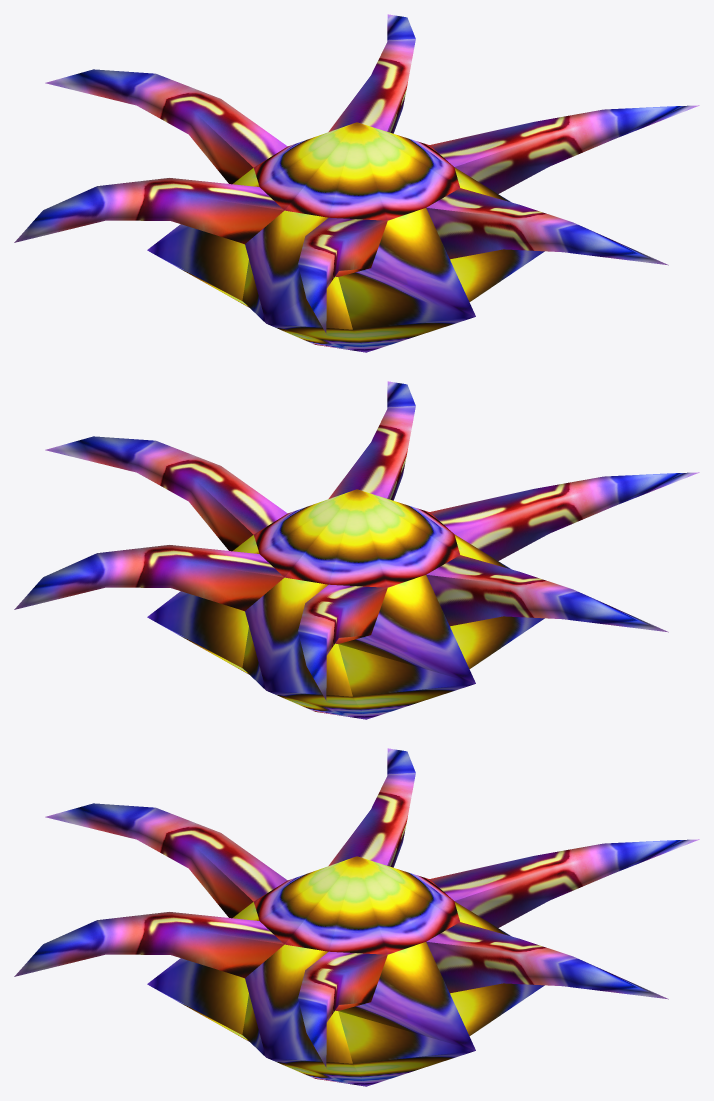
The model's file is ufo-20.fbx.
The picture shows the model from 3 angles, top to bottom: view 1: azimuth 30°, elevation 25°; view 2: azimuth 150°, elevation 25°; view 3: azimuth 270°, elevation 25°; orthographic projection.
Parts seen in each view (by area): view 1: ufo-20; view 2: ufo-20; view 3: ufo-20.
Boxes of the visible parts, box(x1,y1,x2,y2) form: ufo-20: box(14, 14, 699, 352); ufo-20: box(14, 381, 699, 719); ufo-20: box(14, 748, 699, 1086).
Size of the model in its own units: 83.61 by 25.33 by 75.78.
